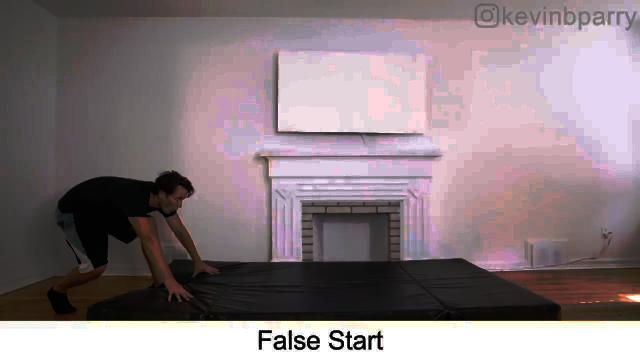jatuh: (37, 164, 211, 318)
